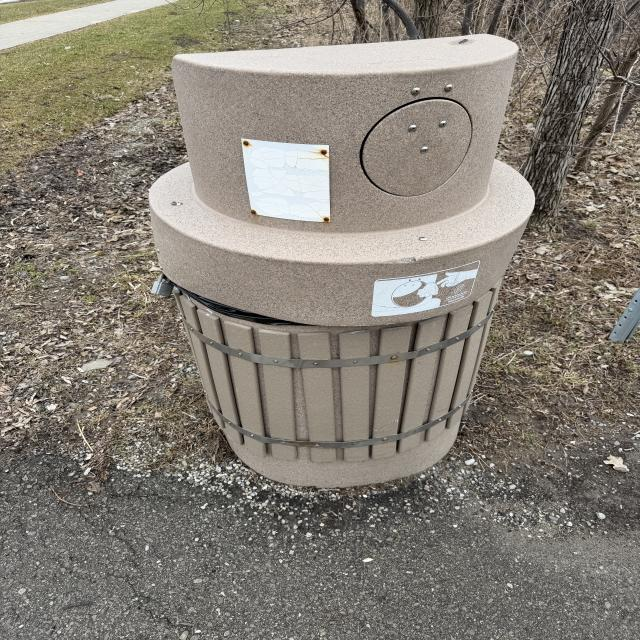Dustbin: (146, 31, 537, 493)
